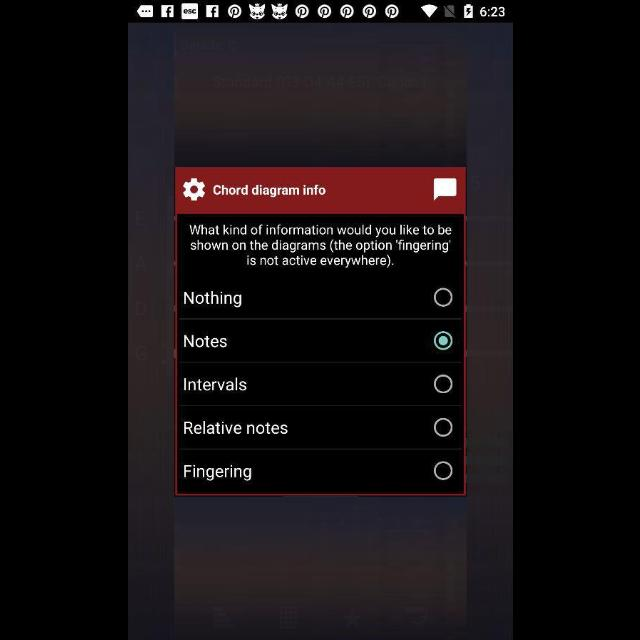checkbox: (432, 287, 452, 307), (432, 330, 452, 350), (432, 418, 452, 437), (432, 462, 452, 481), (433, 374, 451, 394)
icon: (432, 179, 456, 201), (183, 179, 205, 201)
panel: (174, 167, 466, 495)
text: (189, 225, 451, 269), (213, 186, 325, 198), (183, 422, 287, 434), (183, 465, 250, 481), (183, 292, 240, 308), (184, 378, 246, 390), (184, 334, 226, 348)
uppertaskbar: (128, 1, 512, 23)
